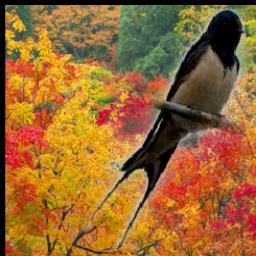Swallow: (85, 9, 246, 248)
